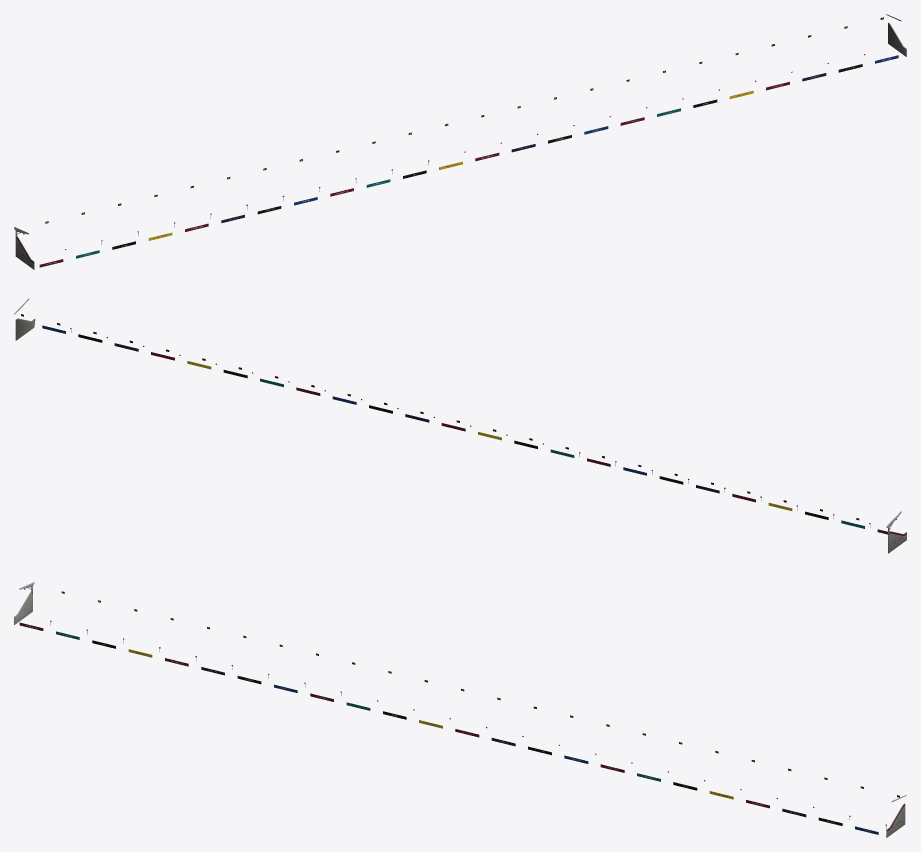
Rendered from stand_main_shell.glb.
3 views of the same model, one above another, from view 1: azimuth 30°, elevation 25°; view 2: azimuth 150°, elevation 25°; view 3: azimuth 330°, elevation 25° (orthographic).
Parts seen in each view (by area): view 1: stand_main_shell; view 2: stand_main_shell; view 3: stand_main_shell.
Boxes of the visible parts, box(x1,y1,x2,y2) form: stand_main_shell: box(14, 14, 906, 269); stand_main_shell: box(14, 298, 906, 553); stand_main_shell: box(14, 582, 906, 837).
Size of the model in its own units: 418 by 14.95 by 16.72.
